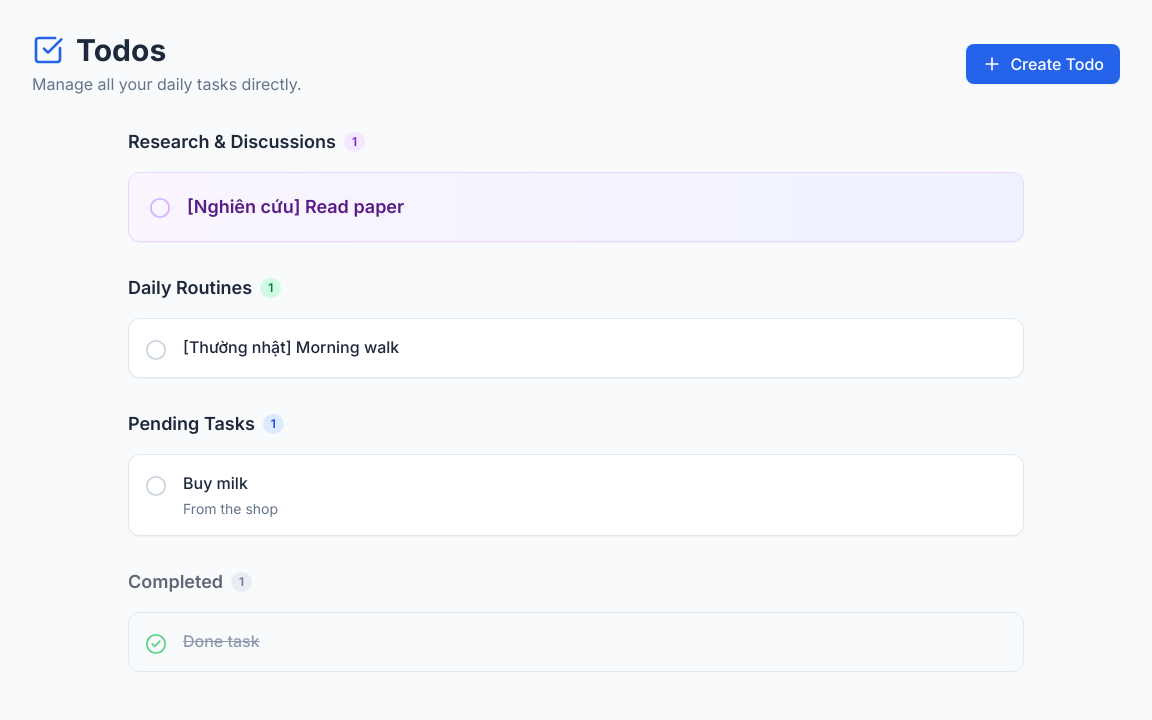
Test case: TodosPage › disables the create-modal submit button while the title is empty
The width and height of the screenshot is (1152, 720).
What coordinates should you click on to do the following:
click the button "Create Todo"
I would click on:
 (1043, 64)
Its box is left=966, top=44, right=1120, bottom=84.
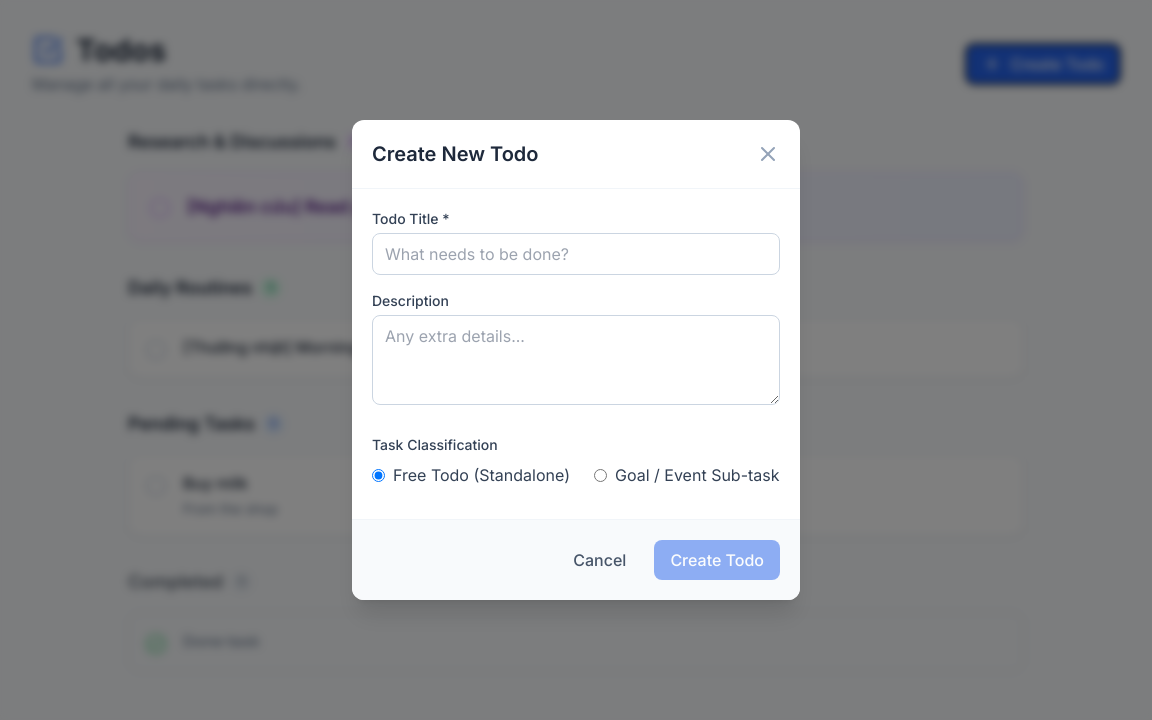
Now the button "Create Todo" is disabled, box left=654, top=540, right=780, bottom=580
